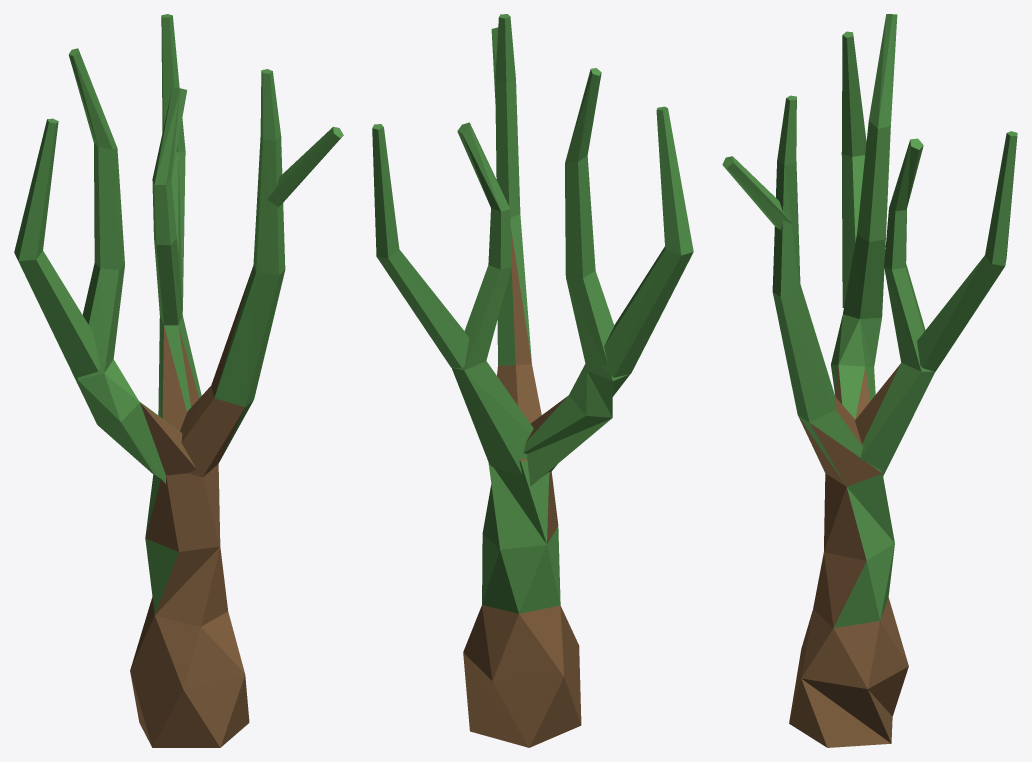
The model's file is tree3d-181.glb.
The picture shows the model from 3 angles, left to right: view 1: azimuth 30°, elevation 25°; view 2: azimuth 150°, elevation 25°; view 3: azimuth 270°, elevation 25°; orthographic projection. The views are drawn at different scales.
Parts seen in each view (by area): view 1: tree3d-181; view 2: tree3d-181; view 3: tree3d-181.
Boxes of the visible parts, x1=… form: tree3d-181: x1=14, y1=14, x2=343, y2=747; tree3d-181: x1=372, y1=14, x2=693, y2=747; tree3d-181: x1=722, y1=14, x2=1017, y2=747.
Bounding box in the file's own units: 0.3977 × 1 × 0.3973.
